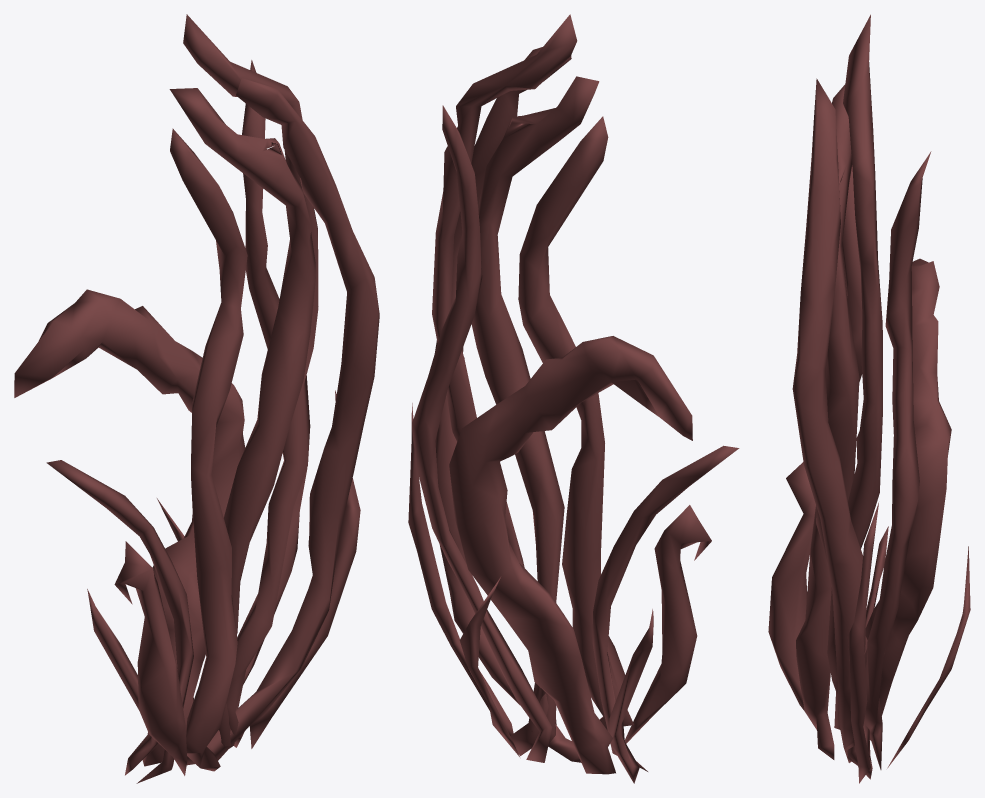
The model's file is Root_Plant_SM.fbx.
3 views of the same model, side by side, from view 1: azimuth 30°, elevation 25°; view 2: azimuth 150°, elevation 25°; view 3: azimuth 270°, elevation 25° (orthographic).
Visible parts, largest first — view 1: Root_Plant_SM; view 2: Root_Plant_SM; view 3: Root_Plant_SM.
Boxes of the visible parts, box(x1,y1,x2,y2) form: Root_Plant_SM: box(14, 14, 379, 783); Root_Plant_SM: box(408, 14, 739, 783); Root_Plant_SM: box(768, 14, 970, 783).
Bounding box in the file's own units: 335 × 748 × 185.
